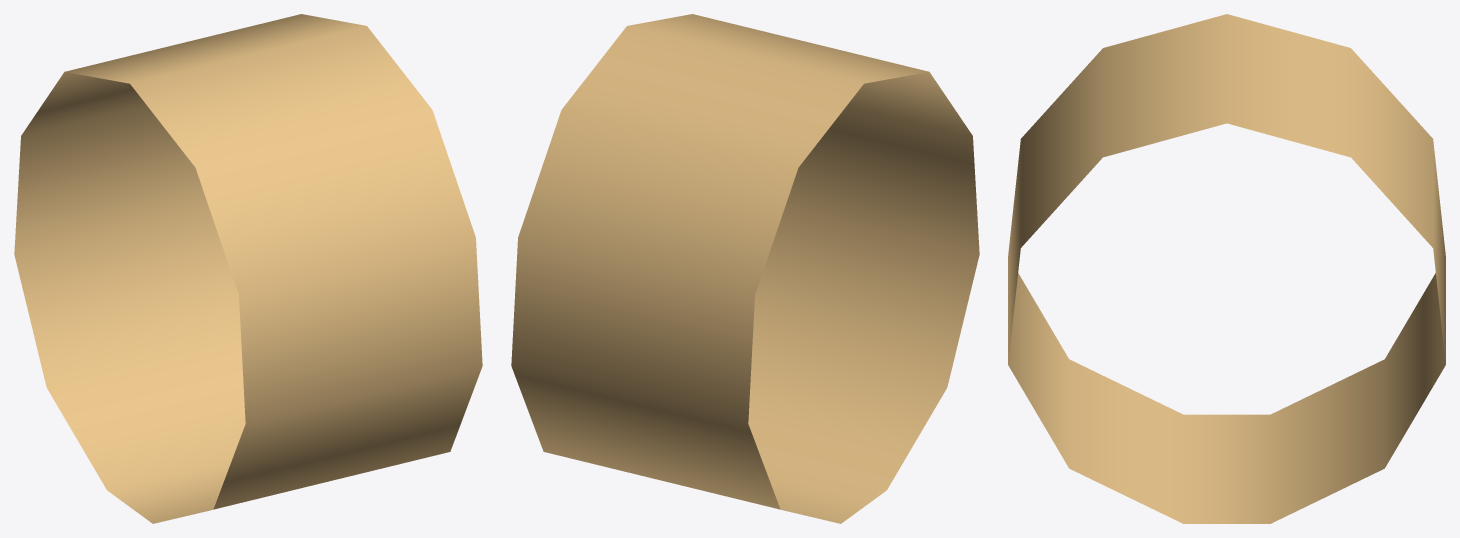
Rendered from Generator_Glass.fbx.
The picture shows the model from 3 angles, left to right: view 1: azimuth 30°, elevation 25°; view 2: azimuth 150°, elevation 25°; view 3: azimuth 270°, elevation 25°; orthographic projection. The views are drawn at different scales.
Parts seen in each view (by area): view 1: Glas_LP.004; view 2: Glas_LP.004; view 3: Glas_LP.004.
Part boxes in pixels (left/top/right/bottom): Glas_LP.004: left=14, top=14, right=482, bottom=523; Glas_LP.004: left=511, top=14, right=979, bottom=523; Glas_LP.004: left=1008, top=14, right=1445, bottom=523.
Bounding box in the file's own units: 0.6083 × 1.04 × 1.03.
